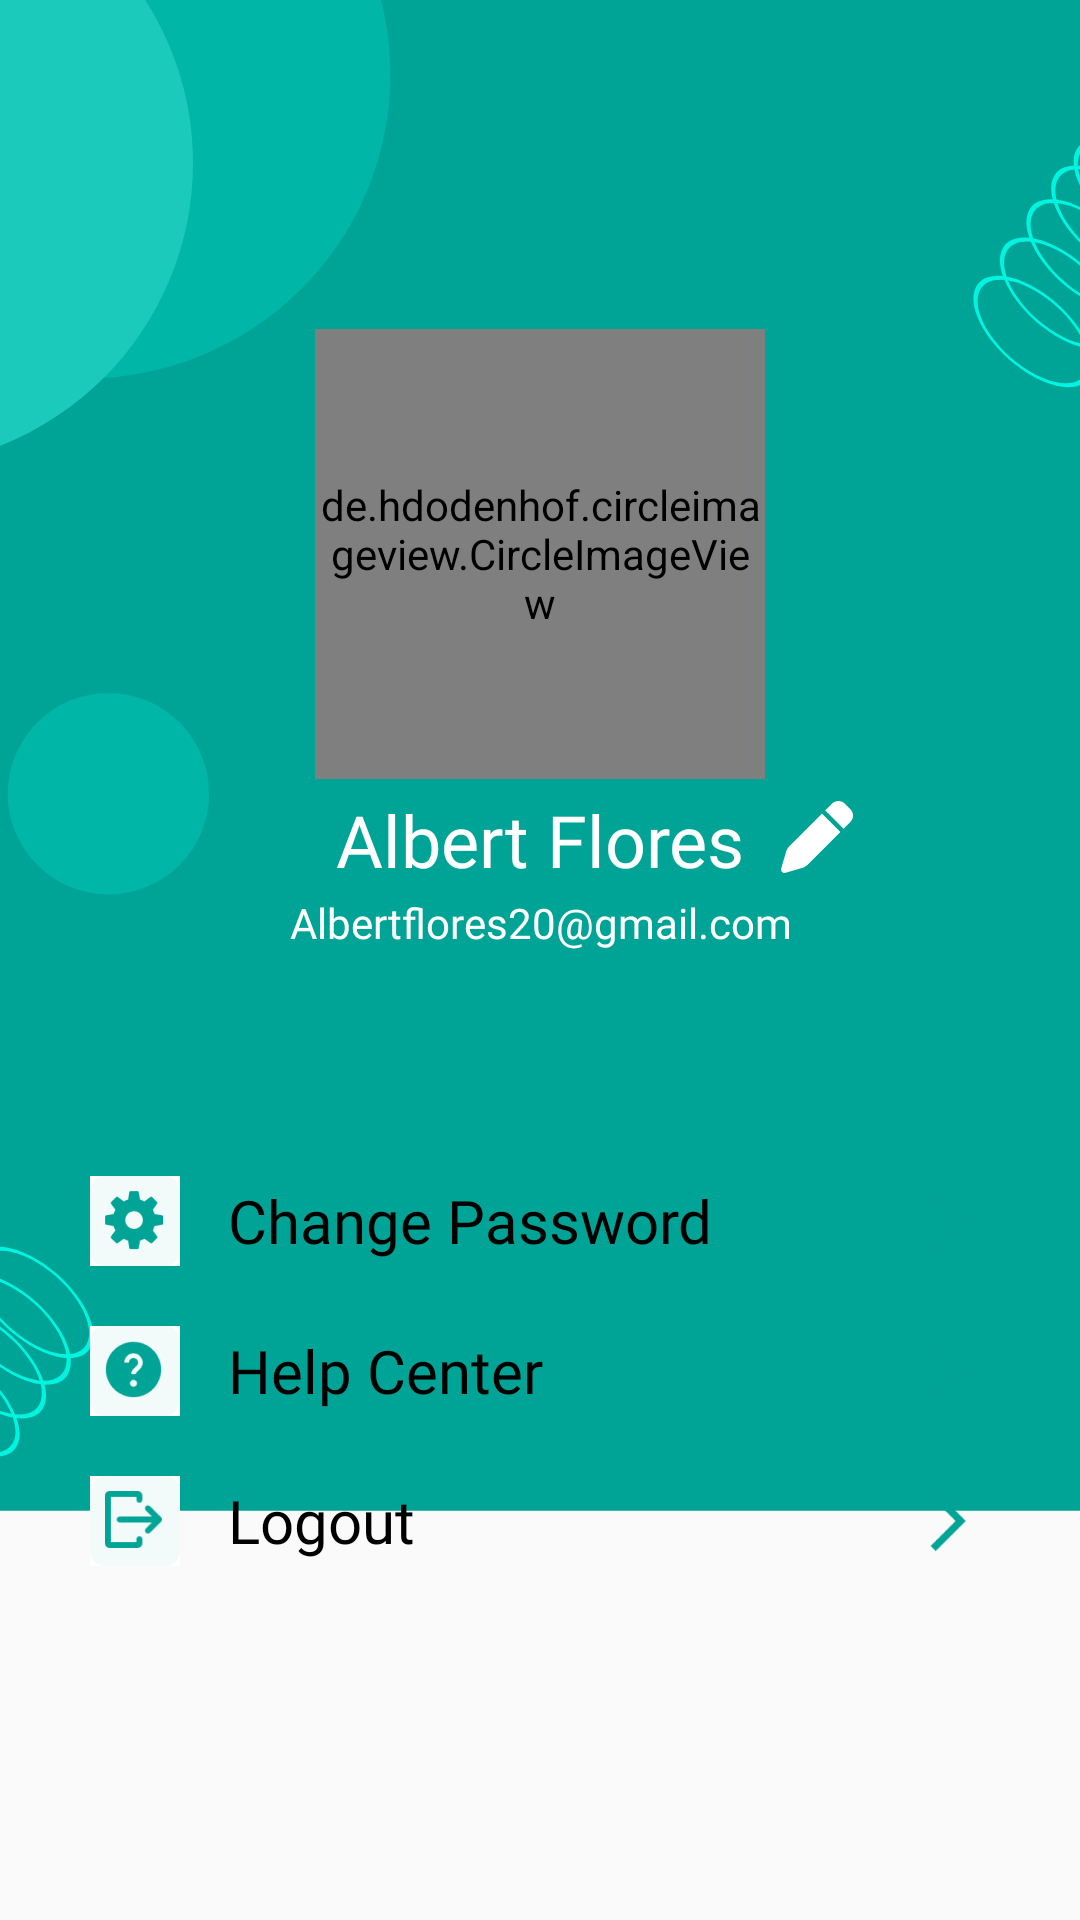

Point at icon controls on the screen. Image size 1080w x 1920h, points as [x,y].
edit: [817,837]
setting: [135,1221]
